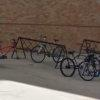Bicycle: (22, 30, 100, 85)
